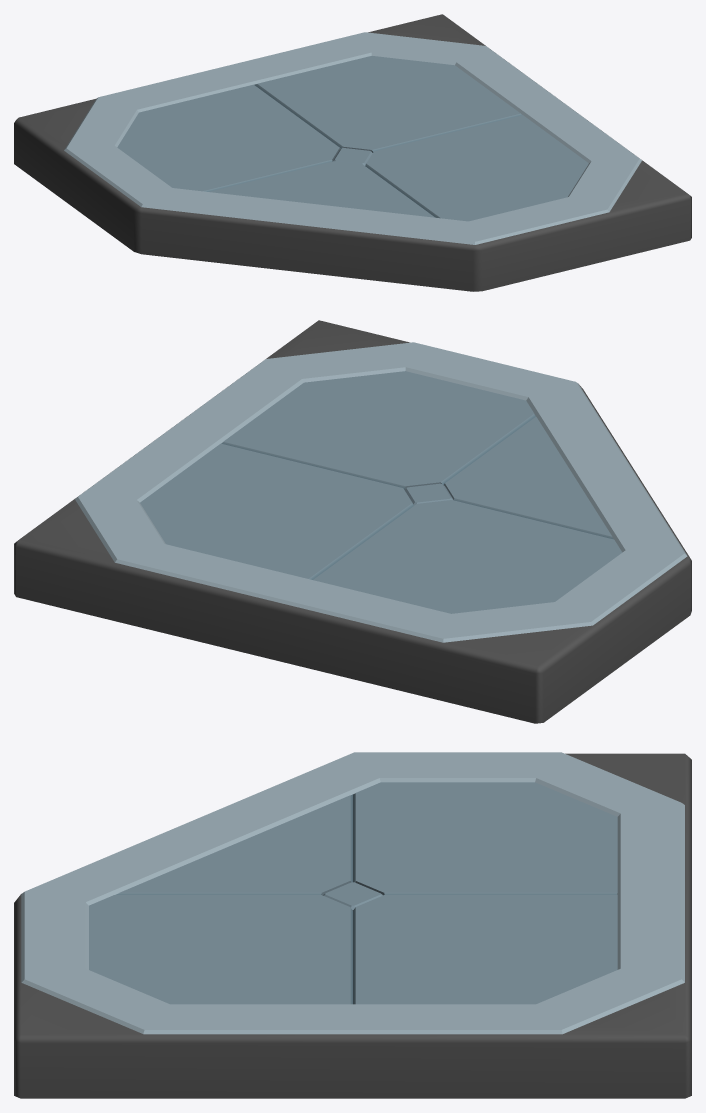
File: platform_003.fbx
3 views of the same model, one above another, from view 1: azimuth 30°, elevation 25°; view 2: azimuth 150°, elevation 25°; view 3: azimuth 270°, elevation 25° (orthographic). The views are drawn at different scales.
Visible parts, largest first — view 1: platform_003; view 2: platform_003; view 3: platform_003.
Boxes of the visible parts, x1,y1,x2,y2 form: platform_003: (14, 14, 691, 291); platform_003: (14, 320, 691, 723); platform_003: (14, 752, 691, 1098).
Size of the model in its own units: 1000 by 1000 by 105.
